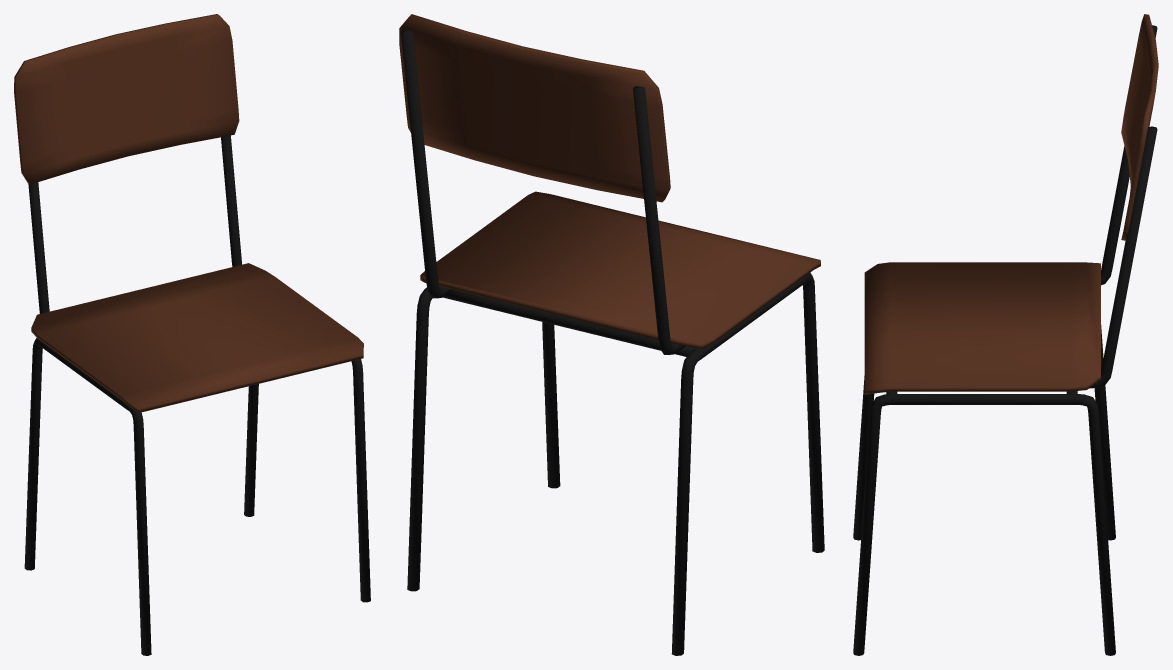
Rendered from Chaise (2).FBX.
The picture shows the model from 3 angles, left to right: view 1: azimuth 30°, elevation 25°; view 2: azimuth 150°, elevation 25°; view 3: azimuth 270°, elevation 25°; orthographic projection. The views are drawn at different scales.
Parts seen in each view (by area): view 1: Box001; view 2: Box001; view 3: Box001.
Boxes of the visible parts, box(x1,y1,x2,y2) form: Box001: box(14, 14, 370, 655); Box001: box(399, 14, 824, 655); Box001: box(853, 14, 1158, 655).
Bounding box in the file's own units: 52.39 × 104 × 54.19.
